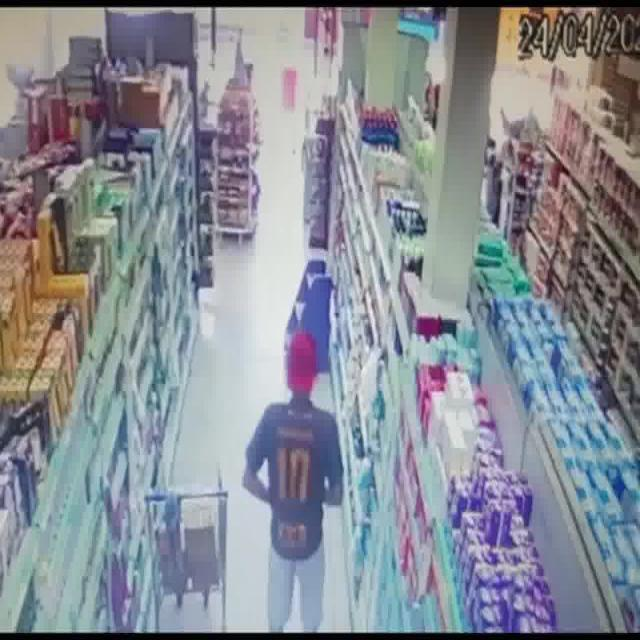persone: (246, 329, 349, 623)
